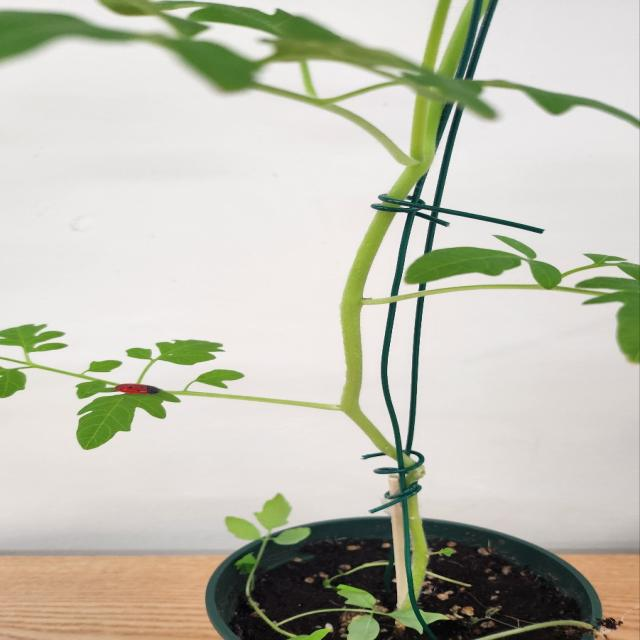bug: (100, 372, 189, 409)
